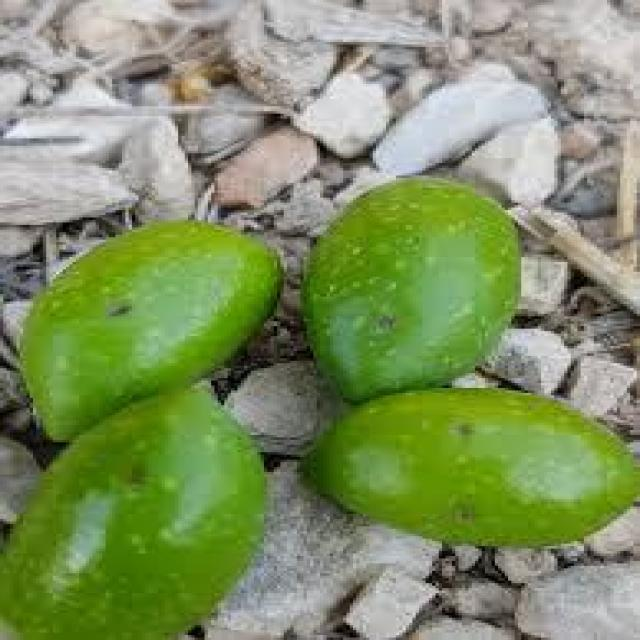Olive Fruit Fly: (0, 388, 261, 638), (20, 222, 277, 437), (307, 388, 637, 541), (307, 178, 518, 398)
